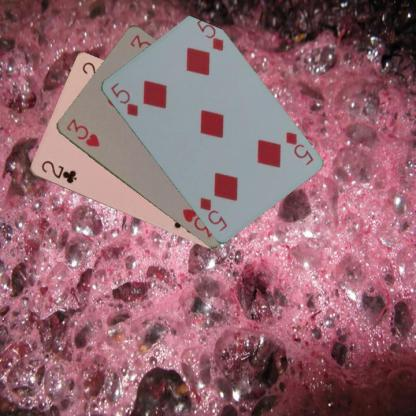2c: (38, 158, 78, 185)
3h: (63, 115, 101, 148)
5d: (108, 79, 140, 118), (282, 128, 314, 167)
